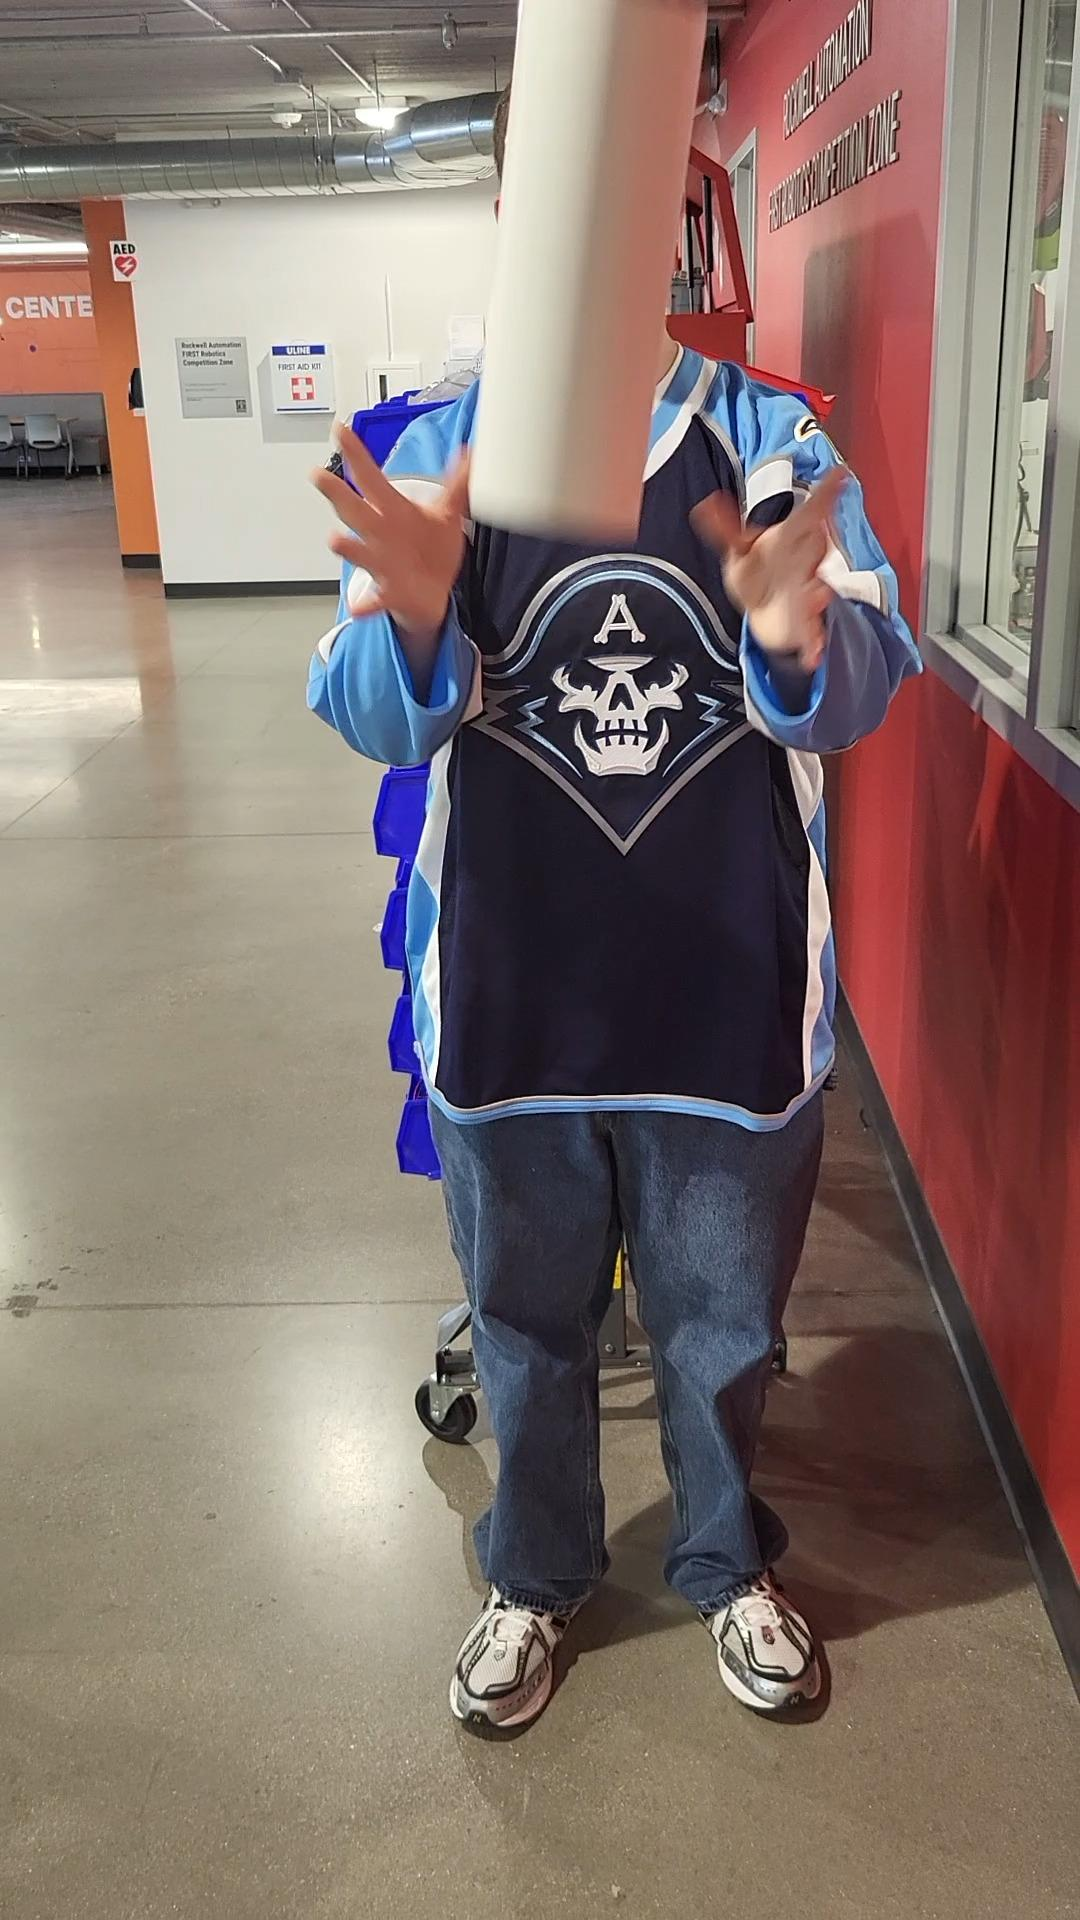coral: (456, 0, 720, 541)
